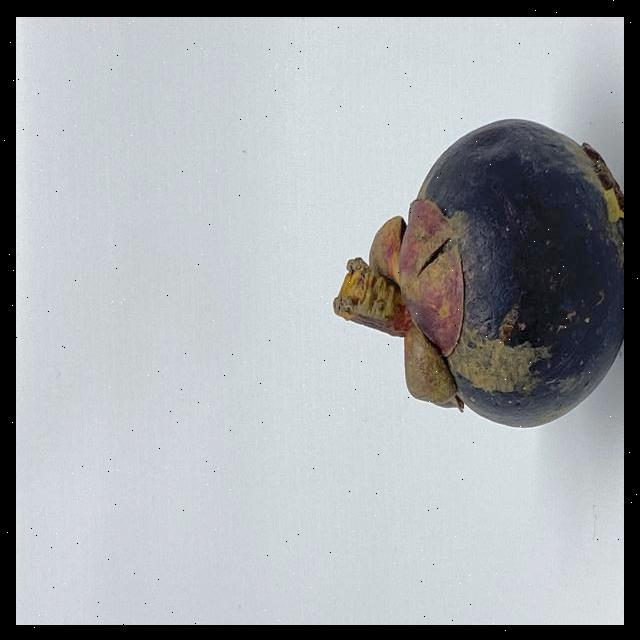mangosteen: (328, 106, 624, 463)
